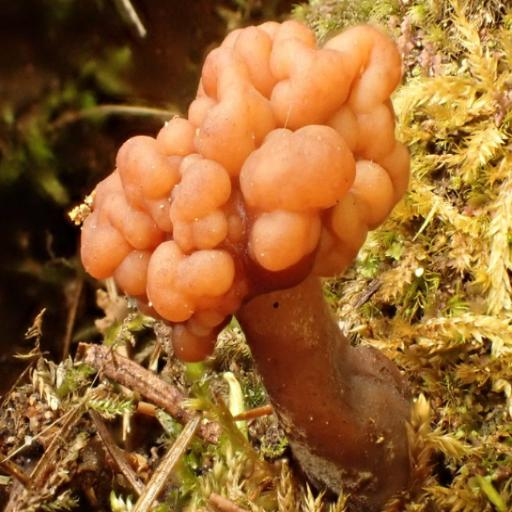False Morel: (84, 8, 423, 503)
